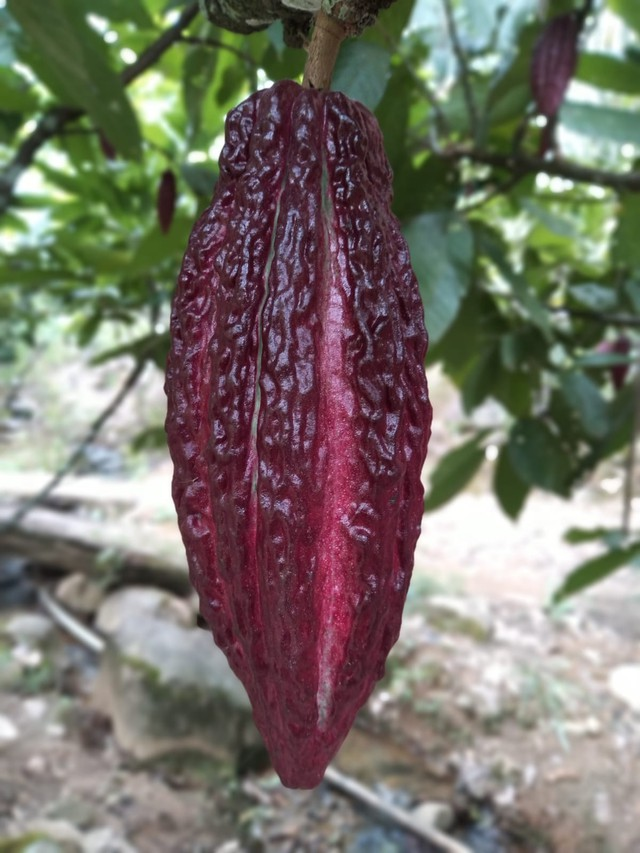Health: (144, 70, 469, 804)
